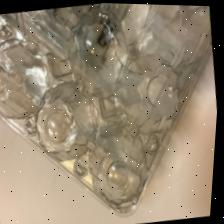plastic: (0, 3, 213, 218)
